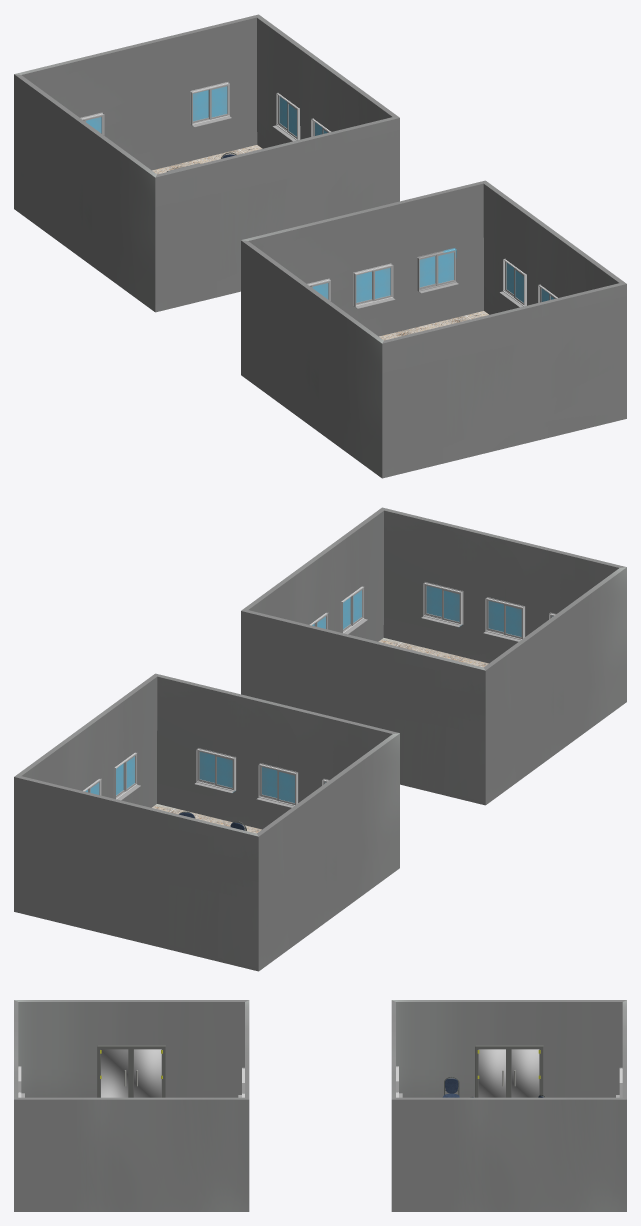
The model's file is Inner-building.fbx.
3 renders of one model, top to bottom at view 1: azimuth 30°, elevation 25°; view 2: azimuth 150°, elevation 25°; view 3: azimuth 270°, elevation 25°, orthographic. The views are drawn at different scales.
Parts seen in each view (by area): view 1: Wall, Wall.001, Window.L.025; view 2: Wall.001, Wall; view 3: Wall, Wall.001, Sides.011, Sides.007, Sides.008, Sides.010, Sides.012, Sides.009.
Boxes of the visible parts, <box> form: Wall: <box>241,180,626,478</box>; Wall.001: <box>14,14,399,312</box>; Window.L.025: <box>372,266,391,301</box>; Wall.001: <box>14,673,399,971</box>; Wall: <box>241,507,626,805</box>; Wall: <box>14,1000,249,1211</box>; Wall.001: <box>391,1000,626,1211</box>; Sides.011: <box>511,1049,539,1097</box>; Sides.007: <box>101,1049,128,1097</box>; Sides.008: <box>134,1049,161,1097</box>; Sides.010: <box>478,1049,505,1097</box>; Sides.012: <box>475,1045,543,1097</box>; Sides.009: <box>97,1045,165,1097</box>.
Bounding box in the file's own units: 8.08 × 4.25 × 21.05.
